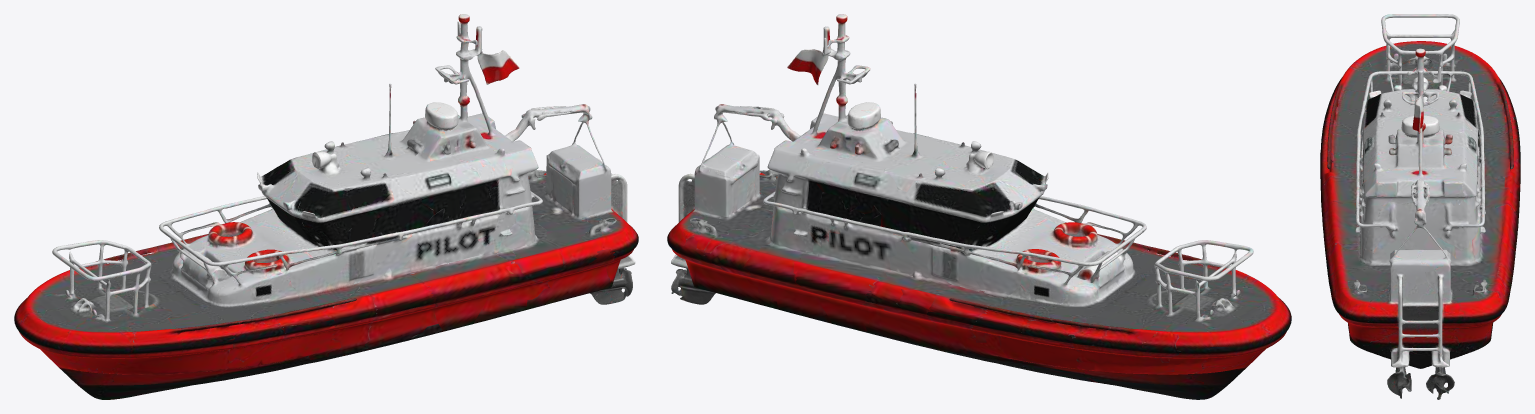
File: pilot_boat.glb
3 views of the same model, side by side, from view 1: azimuth 30°, elevation 25°; view 2: azimuth 150°, elevation 25°; view 3: azimuth 270°, elevation 25° (orthographic). The views are drawn at different scales.
Parts seen in each view (by area): view 1: mesh_node; view 2: mesh_node; view 3: mesh_node.
Part boxes in pixels (left/top/right/bottom): mesh_node: left=14, top=14, right=638, bottom=399; mesh_node: left=667, top=14, right=1291, bottom=399; mesh_node: left=1320, top=14, right=1520, bottom=399.
Bounding box in the file's own units: 1.9 × 0.9543 × 0.6116.
Materials: 1 (1 with a texture image).
